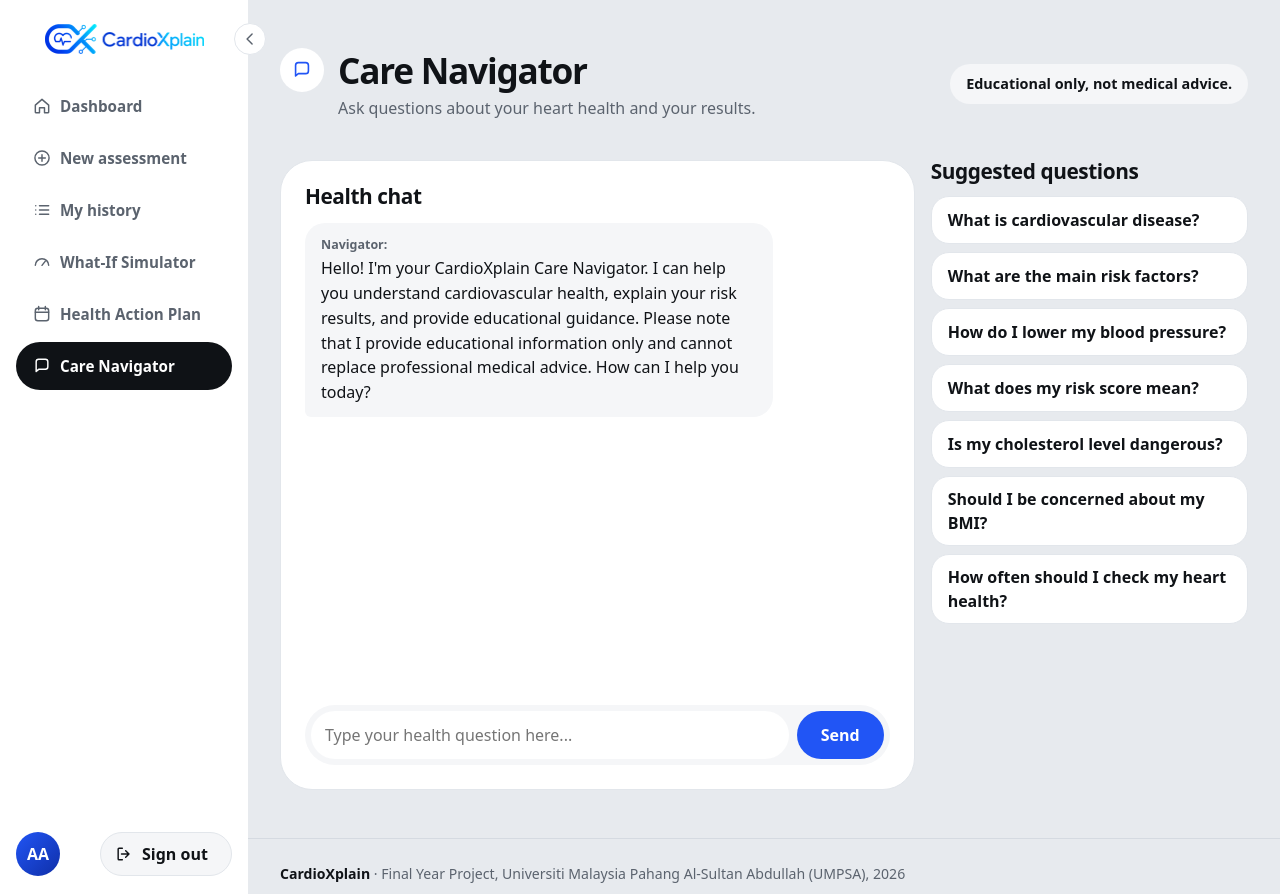
Test: navigator shows unavailable message and keeps the question
The image size is (1280, 894).
Type "What is cholesterol?" into the field named "Your question".
click(550, 735); type("What is cholesterol?")  # box [311,711,789,759]
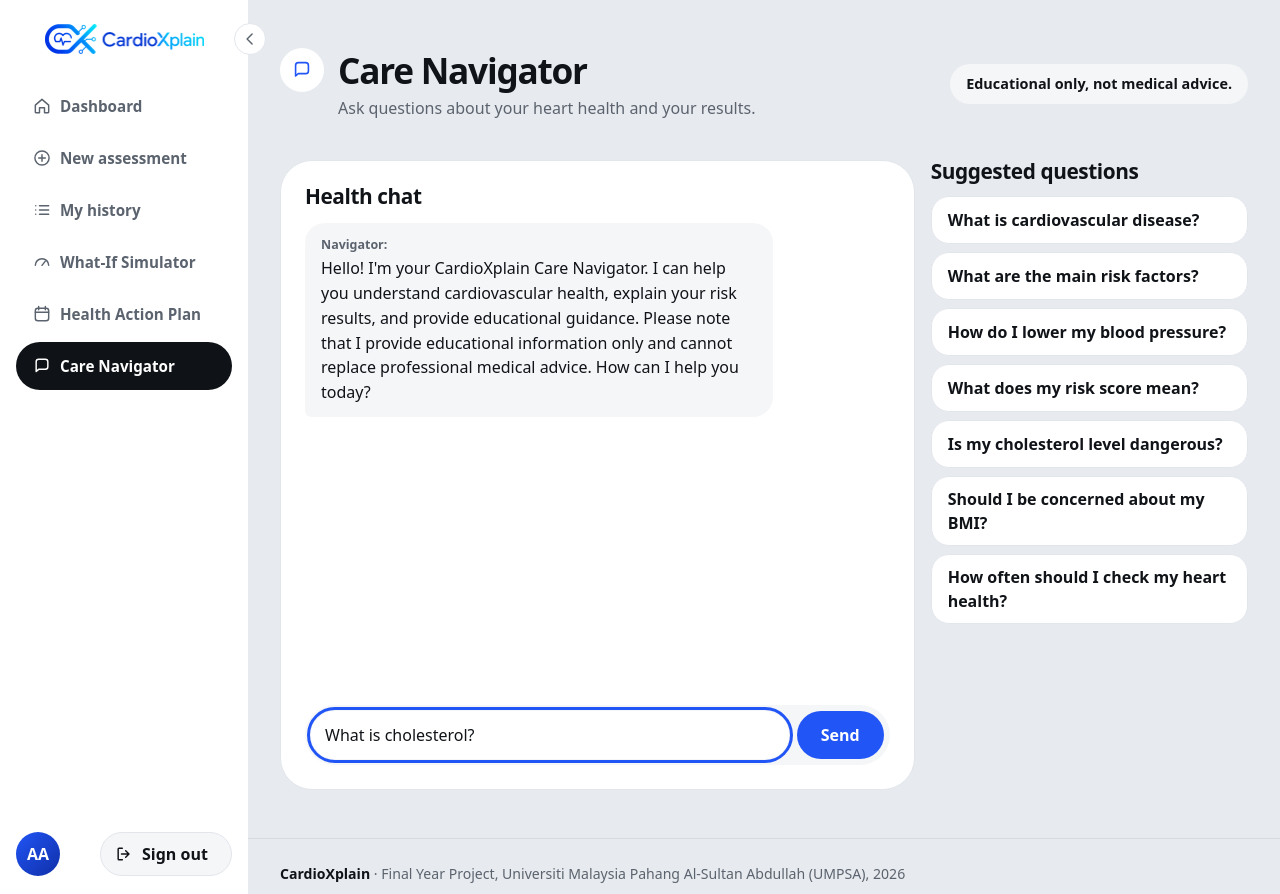
Click the button "Send".
click(840, 735)  # box [797,711,884,759]
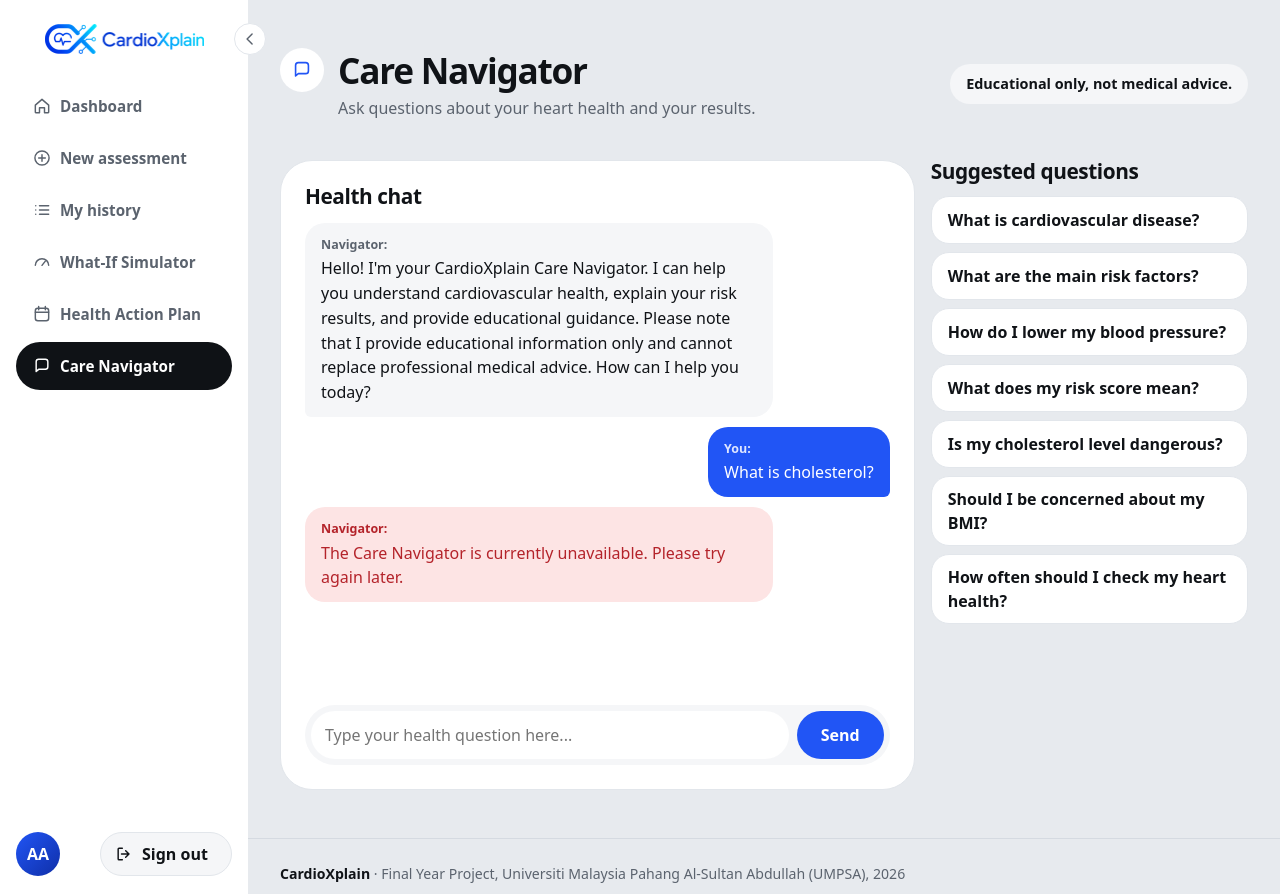
Expected: the text "Educational only, not medical advice." is shown, [966,73,1232,95]
Now the text "The Care Navigator is currently unavailable. Please try again later." is shown, box [321,542,725,588]
Now the list item "What is cholesterol?" is shown, box [724,461,874,483]
